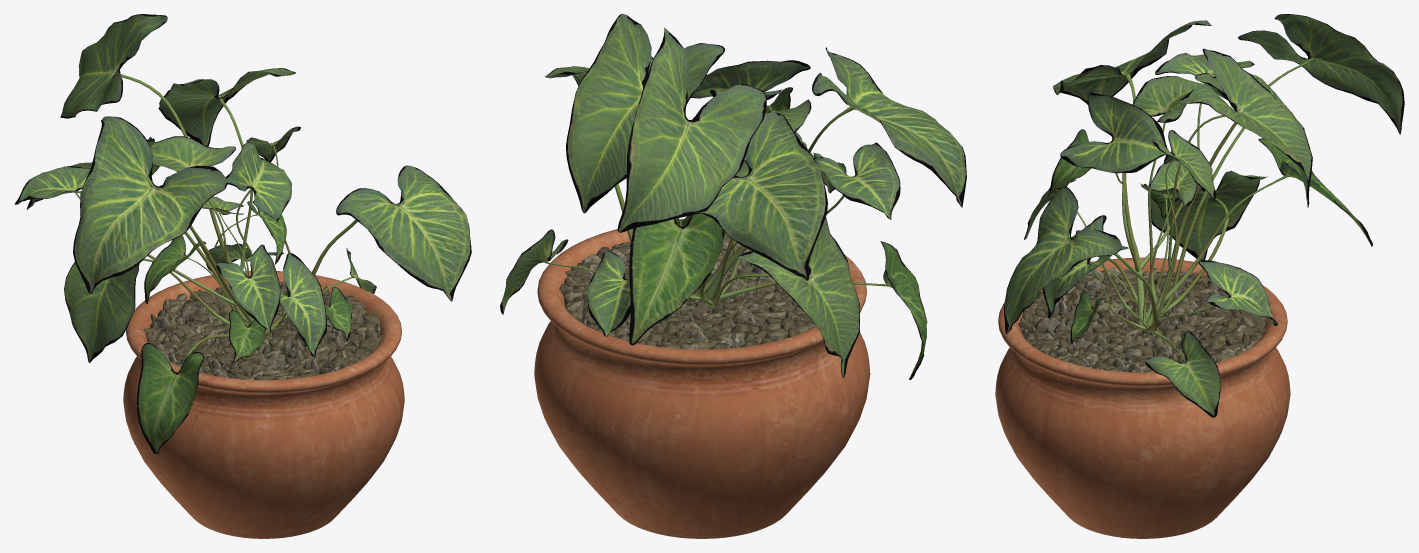
Rendered from potted_plant_02.glb.
3 renders of one model, left to right at view 1: azimuth 30°, elevation 25°; view 2: azimuth 150°, elevation 25°; view 3: azimuth 270°, elevation 25°, orthographic. The views are drawn at different scales.
Visible parts, largest first — view 1: potted_plant_02_leaves, potted_plant_02_pot, potted_plant_02_dirt; view 2: potted_plant_02_leaves, potted_plant_02_pot, potted_plant_02_dirt; view 3: potted_plant_02_leaves, potted_plant_02_pot, potted_plant_02_dirt.
Part boxes in pixels (box(x1,y1,x2,y2)): potted_plant_02_leaves: box(14, 14, 471, 454); potted_plant_02_pot: box(123, 271, 404, 538); potted_plant_02_dirt: box(143, 282, 383, 380); potted_plant_02_leaves: box(500, 14, 966, 379); potted_plant_02_pot: box(534, 219, 870, 538); potted_plant_02_dirt: box(559, 234, 816, 349); potted_plant_02_leaves: box(1004, 14, 1404, 417); potted_plant_02_pot: box(995, 257, 1290, 538); potted_plant_02_dirt: box(1018, 267, 1266, 372).
Bounding box in the file's own units: 0.7012 × 0.8412 × 0.6574.
Materials: 2 (2 with a texture image).
